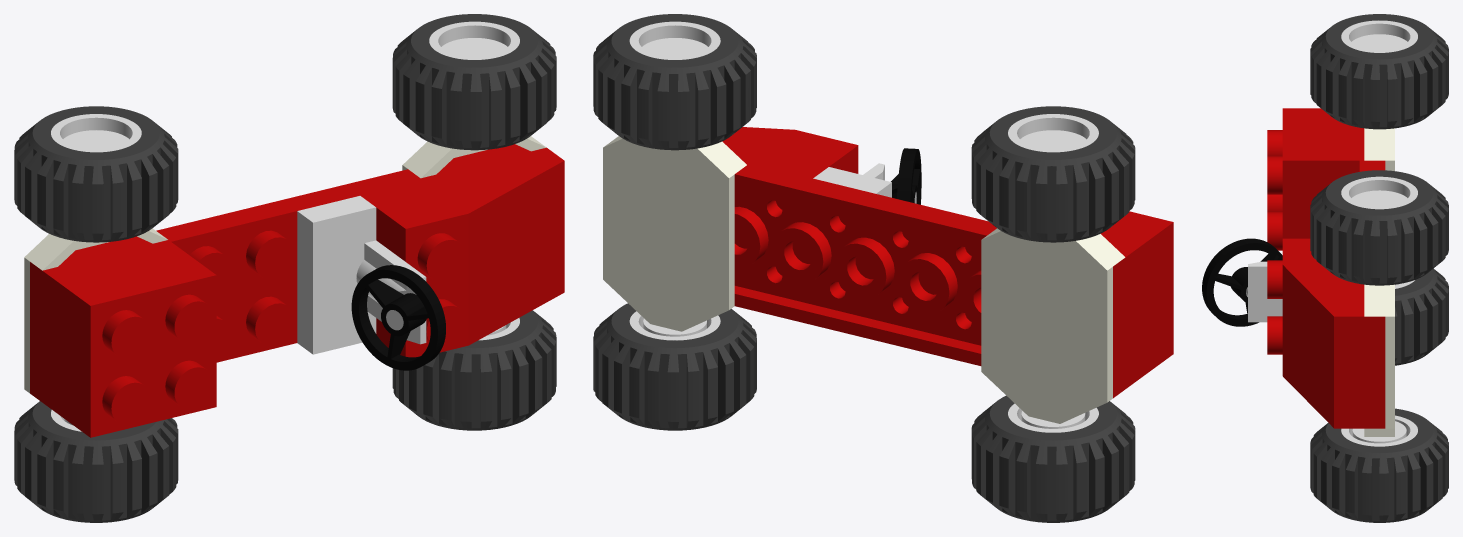
The model's file is LegoRacerbil.glb.
3 renders of one model, left to right at view 1: azimuth 30°, elevation 25°; view 2: azimuth 150°, elevation 25°; view 3: azimuth 270°, elevation 25°, orthographic. The views are drawn at different scales.
Visible parts, largest first — view 1: Solid1 (×9), Solid2 (×4); view 2: Solid1 (×11), Solid2 (×4); view 3: Solid1 (×10), Solid2 (×4).
Boxes of the visible parts, x1,y1,x2,y2 form: Solid1 (×9): (14,14,564,522); Solid2 (×4): (24,136,546,393); Solid1 (×11): (593,14,1173,522); Solid2 (×4): (603,136,1125,423); Solid1 (×10): (1267,14,1448,522); Solid2 (×4): (1202,128,1394,436).
Bounding box in the file's own units: 0.066 × 0.044 × 0.0321.
